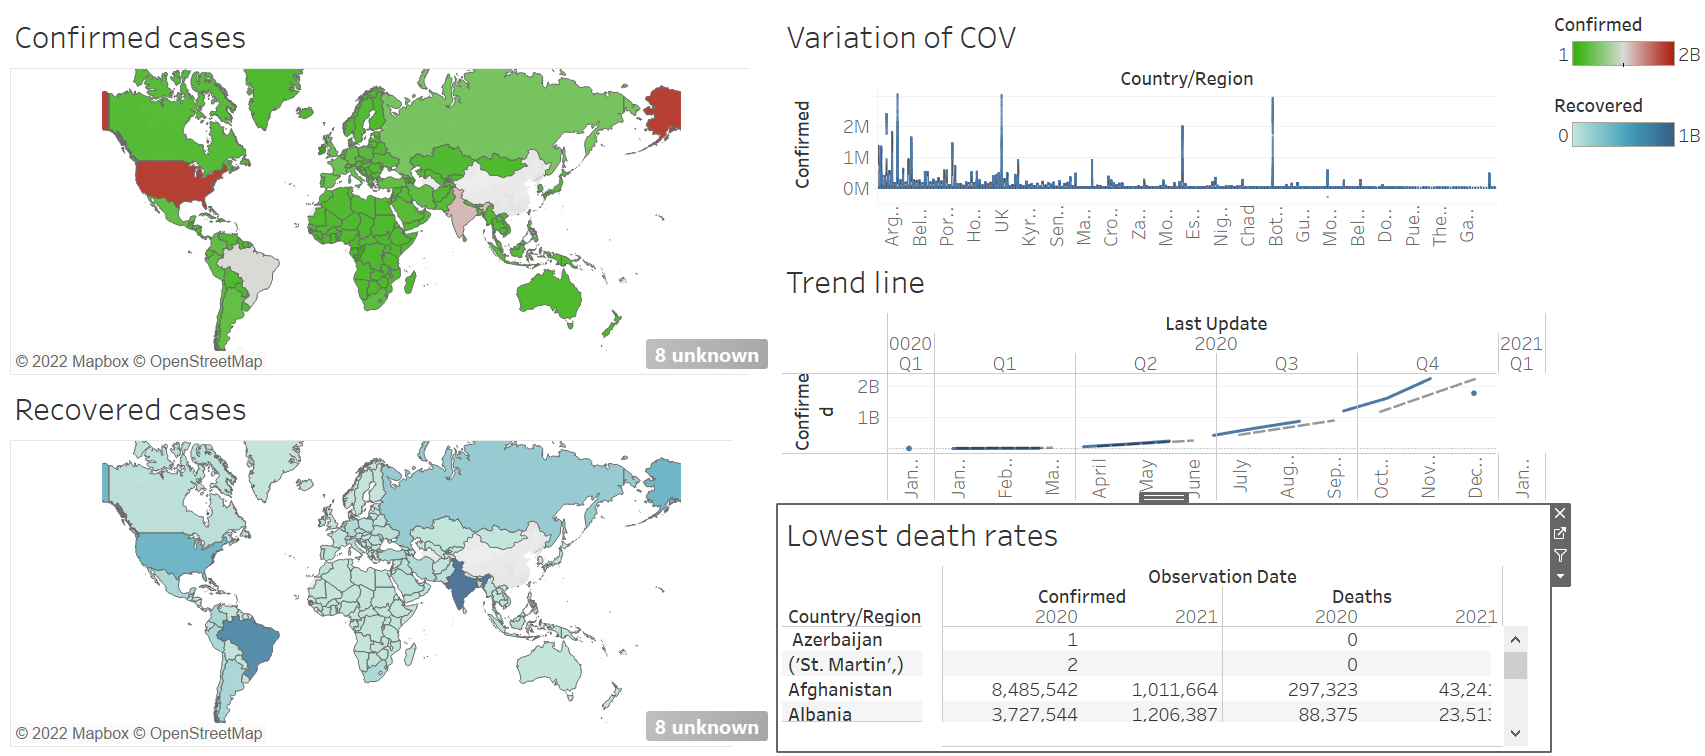

What the dashboard file says about the page in this screenshot:
{"tool":"tableau","page":{"name":"INTL dashboard","canvas":[1000,1000],"units":"permille","ordinal":0},"visuals":[{"type":"worksheet","title":"Confirmed cases","mark":"Multipolygon","box":[6.1,10.5,433.3,489.5]},{"type":"worksheet","title":"Variation of COV","mark":"Circle","rows":["Confirmed"],"cols":["Country/Region"],"box":[439.4,10.5,433.3,322.4]},{"type":"legend","title":"Confirmed cases","param":"[federated.1fo1ci91lovsxx1102va91fnmlaa].[sum:Confirmed:qk]","box":[872.7,10.5,121.2,106.6]},{"type":"legend","title":"Recovered cases","param":"[federated.1fo1ci91lovsxx1102va91fnmlaa].[sum:Recovered:qk]","box":[872.7,117.1,121.2,106.6]},{"type":"worksheet","title":"Trend line","mark":"Line","rows":["Confirmed"],"cols":["Last Update","Last Update","Last Update"],"box":[439.4,332.9,433.3,332.9]},{"type":"worksheet","title":"Recovered cases","mark":"Automatic","box":[6.1,500,433.3,489.5]},{"type":"worksheet","title":"Lowest death rates ","mark":"Automatic","rows":["Country/Region"],"cols":["ObservationDate"],"box":[439.4,665.8,433.3,323.7]}]}

Visuals, with their boxes on the dashboard's canvas, which has no fixed pixel size, in thousandths of its width and height (x1, y1, x2, y2). These are canvas units, not pixel positions in the 1705x756 screenshot, which may show the page scaled, cropped or inside an application window:
"Confirmed cases" worksheet (Multipolygon marks): [left=6, top=10, right=439, bottom=500]
"Variation of COV" worksheet (Circle marks): [left=439, top=10, right=873, bottom=333]
"Confirmed cases" legend: [left=873, top=10, right=994, bottom=117]
"Recovered cases" legend: [left=873, top=117, right=994, bottom=224]
"Trend line" worksheet (Line marks): [left=439, top=333, right=873, bottom=666]
"Recovered cases" worksheet: [left=6, top=500, right=439, bottom=990]
"Lowest death rates " worksheet: [left=439, top=666, right=873, bottom=990]
